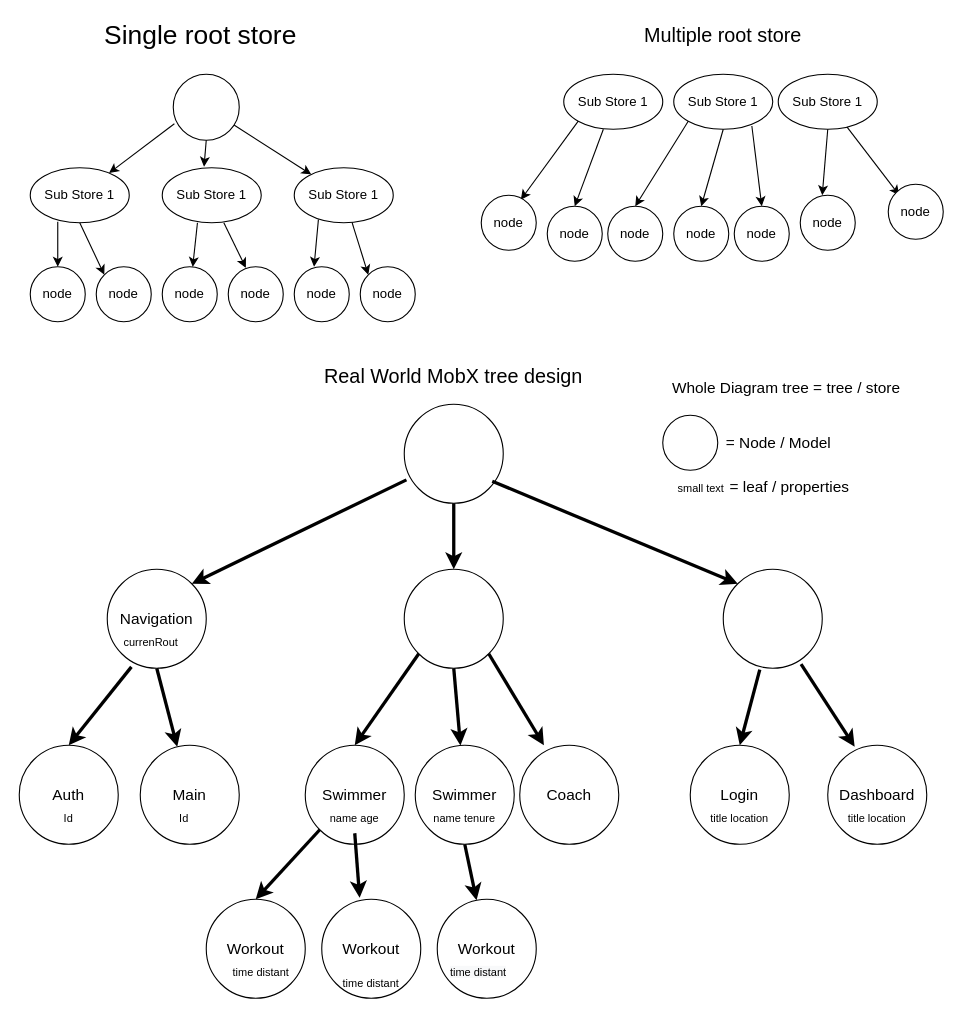
This 963x1018 diagram has some shape labels left out. The centre of each missing label's shape, as x and y in pixels:
"Application" goes at (453,618).
"Assets" goes at (772,618).
"Root" goes at (205,106).
"Root Store" goes at (453,453).
